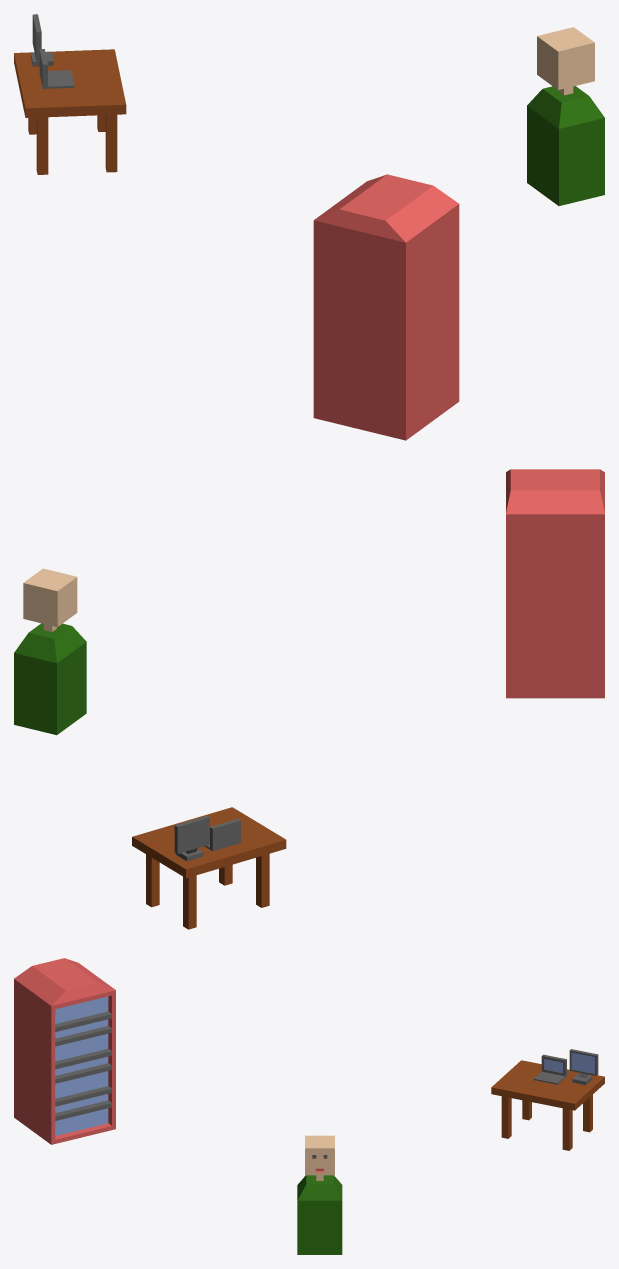
3 renders of one model, top to bottom at view 1: azimuth 30°, elevation 25°; view 2: azimuth 150°, elevation 25°; view 3: azimuth 270°, elevation 25°, orthographic. The views are drawn at different scales.
Visible parts, largest first — view 1: Booth, Person, Desk; view 2: Booth, Person, Desk; view 3: Booth, Desk, Person.
Part boxes in pixels (x1,y1,x2,y2): Booth: (313, 174, 459, 440); Person: (527, 27, 604, 205); Desk: (14, 14, 126, 174); Booth: (506, 469, 604, 698); Person: (14, 568, 86, 735); Desk: (132, 807, 286, 929); Booth: (14, 958, 115, 1144); Desk: (491, 1049, 604, 1150); Person: (297, 1135, 342, 1254).
Bounding box in the file's own units: 9.69 × 4.4 × 15.81.
